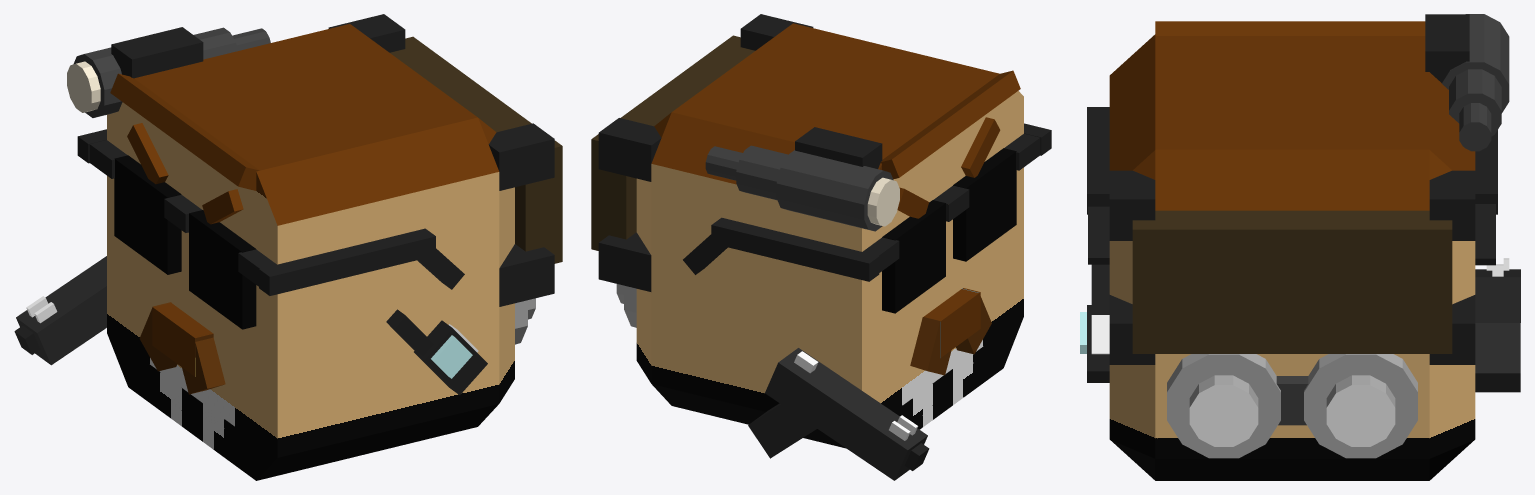
File: playerReloadingpistol.gltf
3 views of the same model, side by side, from view 1: azimuth 30°, elevation 25°; view 2: azimuth 150°, elevation 25°; view 3: azimuth 270°, elevation 25° (orthographic). The views are drawn at different scales.
Visible parts, largest first — view 1: beveled_cuboid, cube; view 2: beveled_cuboid, cube; view 3: beveled_cuboid, cube.
Boxes of the visible parts, <box> form: beveled_cuboid: <box>67,14,562,480</box>; cube: <box>14,256,106,365</box>; beveled_cuboid: <box>591,14,1051,448</box>; cube: <box>748,348,929,480</box>; beveled_cuboid: <box>1080,14,1509,480</box>; cube: <box>1475,258,1520,392</box>.
Size of the model in its own units: 1.26 by 1.06 by 1.21.
3 materials, 3 textured.
